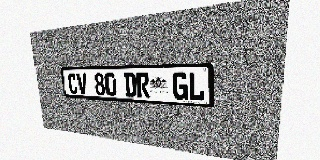0: (104, 73, 117, 96)
8: (94, 73, 106, 96)
C: (67, 73, 78, 94)
D: (123, 72, 137, 97)
G: (172, 72, 188, 100)
L: (188, 72, 205, 101)
R: (136, 72, 150, 98)
V: (76, 73, 88, 95)
